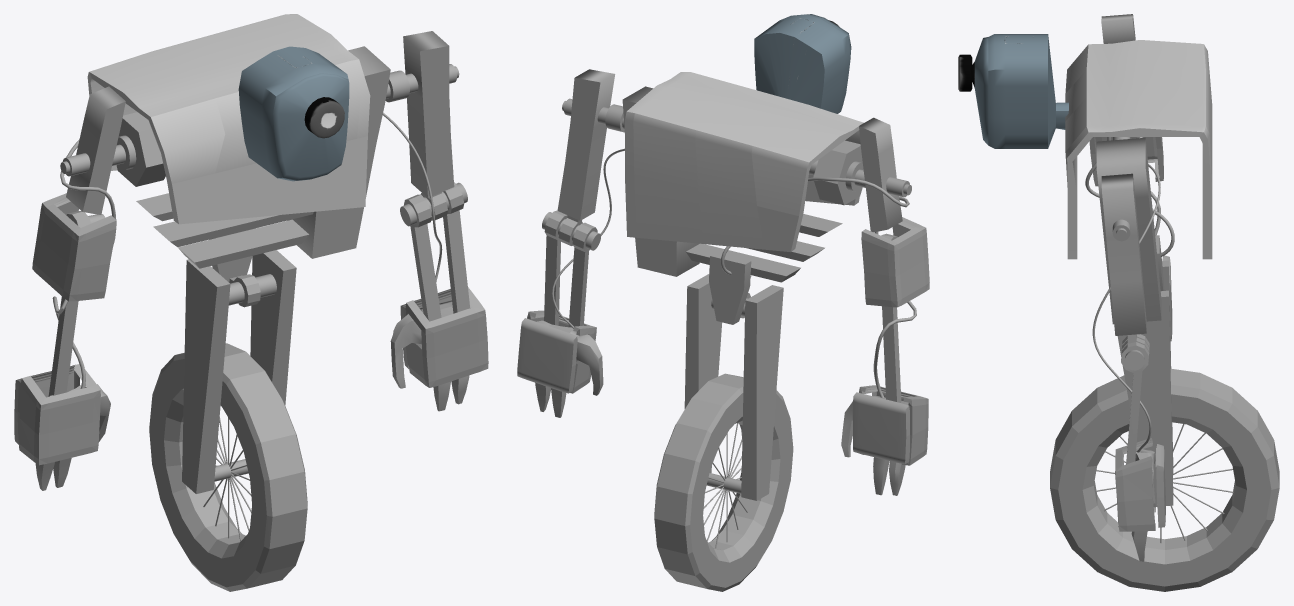
The model's file is Robot.fbx.
The picture shows the model from 3 angles, left to right: view 1: azimuth 30°, elevation 25°; view 2: azimuth 150°, elevation 25°; view 3: azimuth 270°, elevation 25°; orthographic projection. The views are drawn at different scales.
Parts seen in each view (by area): view 1: BodyTop, WheelMesh, Head, LeftLeg, extrudedSurface11, extrudedSurface7, extrudedSurface15, extrudedSurface13, RightLeg, extrudedSurface9, extrudedSurface10, pCube140 (+13 smaller); view 2: BodyTop, WheelMesh, Head, LeftLeg, extrudedSurface11, extrudedSurface7, extrudedSurface14, RightLeg, extrudedSurface16, extrudedSurface10, pCube145, extrudedSurface9 (+13 smaller); view 3: WheelMesh, BodyTop, Head, extrudedSurface11, extrudedSurface9, RightLeg, extrudedSurface13, pCylinder12, extrudedSurface10, extrudedSurface7, extrudedSurface14, pCylinder17 (+1 smaller).
Boxes of the visible parts, x1=… form: BodyTop: x1=87, y1=14, x2=370, y2=224; WheelMesh: x1=149, y1=343, x2=307, y2=591; Head: x1=238, y1=46, x2=349, y2=181; LeftLeg: x1=182, y1=259, x2=230, y2=493; extrudedSurface11: x1=403, y1=31, x2=454, y2=197; extrudedSurface7: x1=32, y1=193, x2=116, y2=301; extrudedSurface15: x1=18, y1=364, x2=100, y2=465; extrudedSurface13: x1=405, y1=287, x2=488, y2=387; RightLeg: x1=250, y1=250, x2=296, y2=404; extrudedSurface9: x1=288, y1=46, x2=390, y2=258; extrudedSurface10: x1=66, y1=86, x2=125, y2=214; pCube140: x1=178, y1=219, x2=309, y2=268; BodyTop: x1=625, y1=72, x2=863, y2=251; WheelMesh: x1=654, y1=373, x2=793, y2=591; Head: x1=754, y1=14, x2=851, y2=113; LeftLeg: x1=741, y1=285, x2=783, y2=500; extrudedSurface11: x1=557, y1=69, x2=615, y2=220; extrudedSurface7: x1=861, y1=217, x2=929, y2=307; extrudedSurface14: x1=517, y1=318, x2=577, y2=393; RightLeg: x1=684, y1=274, x2=722, y2=472; extrudedSurface16: x1=853, y1=392, x2=909, y2=464; extrudedSurface10: x1=859, y1=117, x2=902, y2=232; pCube145: x1=709, y1=252, x2=751, y2=324; extrudedSurface9: x1=622, y1=86, x2=699, y2=276; WheelMesh: x1=1050, y1=368, x2=1279, y2=591; BodyTop: x1=1065, y1=40, x2=1212, y2=259; Head: x1=958, y1=34, x2=1068, y2=148; extrudedSurface11: x1=1101, y1=173, x2=1146, y2=335; extrudedSurface9: x1=1096, y1=137, x2=1161, y2=324; RightLeg: x1=1117, y1=290, x2=1173, y2=506; extrudedSurface13: x1=1115, y1=438, x2=1155, y2=531; pCylinder12: x1=1121, y1=342, x2=1149, y2=464; extrudedSurface10: x1=1101, y1=14, x2=1135, y2=43; extrudedSurface7: x1=1089, y1=137, x2=1163, y2=186; extrudedSurface14: x1=1155, y1=444, x2=1165, y2=527; pCylinder17: x1=1092, y1=164, x2=1160, y2=452.
Size of the model in its own units: 2.48 by 3.06 by 1.65.
